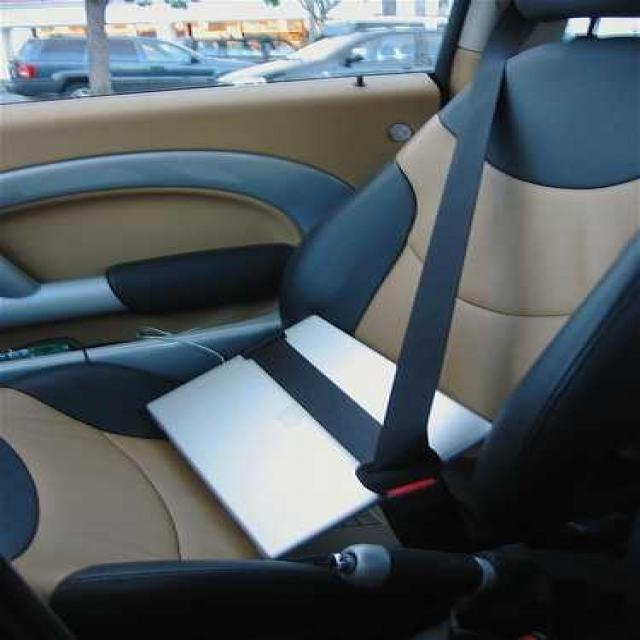seatbelt: (248, 33, 534, 535)
